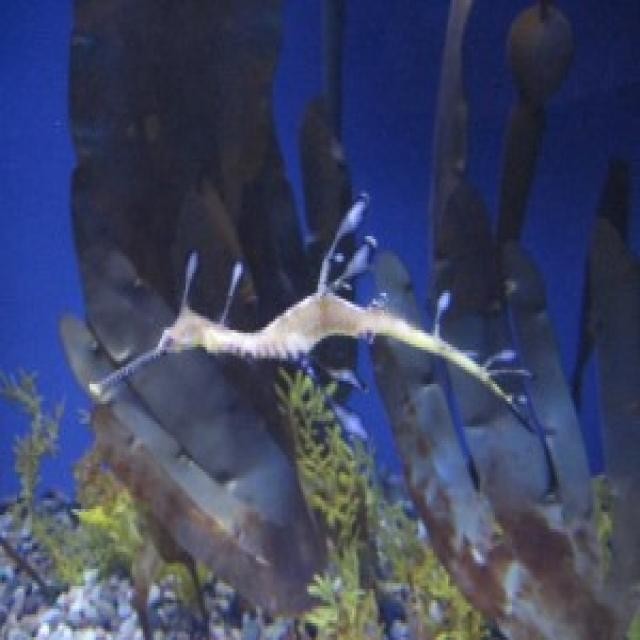Seahorse: (82, 289, 561, 444)
